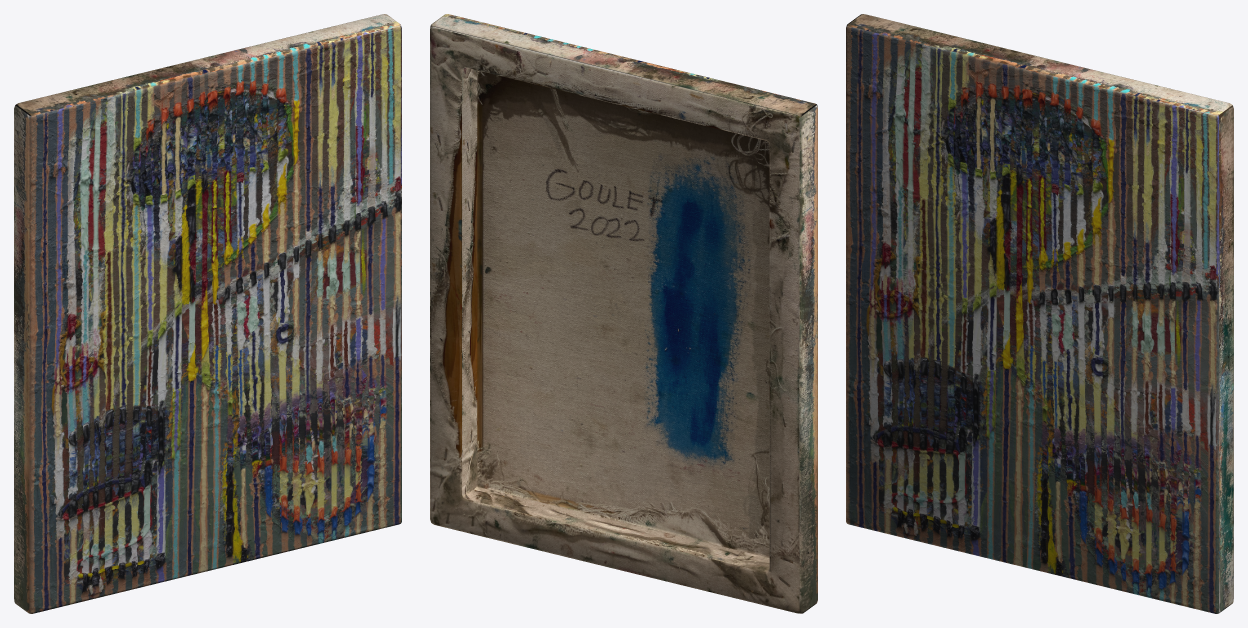
File: alley.glb
3 renders of one model, left to right at view 1: azimuth 30°, elevation 25°; view 2: azimuth 150°, elevation 25°; view 3: azimuth 330°, elevation 25°, orthographic.
Visible parts, largest first — view 1: Alley; view 2: Alley; view 3: Alley.
Boxes of the visible parts, x1,y1,x2,y2 form: Alley: [14, 14, 401, 613]; Alley: [430, 14, 817, 613]; Alley: [846, 14, 1233, 613].
Size of the model in its own units: 0.3175 by 0.4064 by 0.0254.
1 material, 1 textured.
